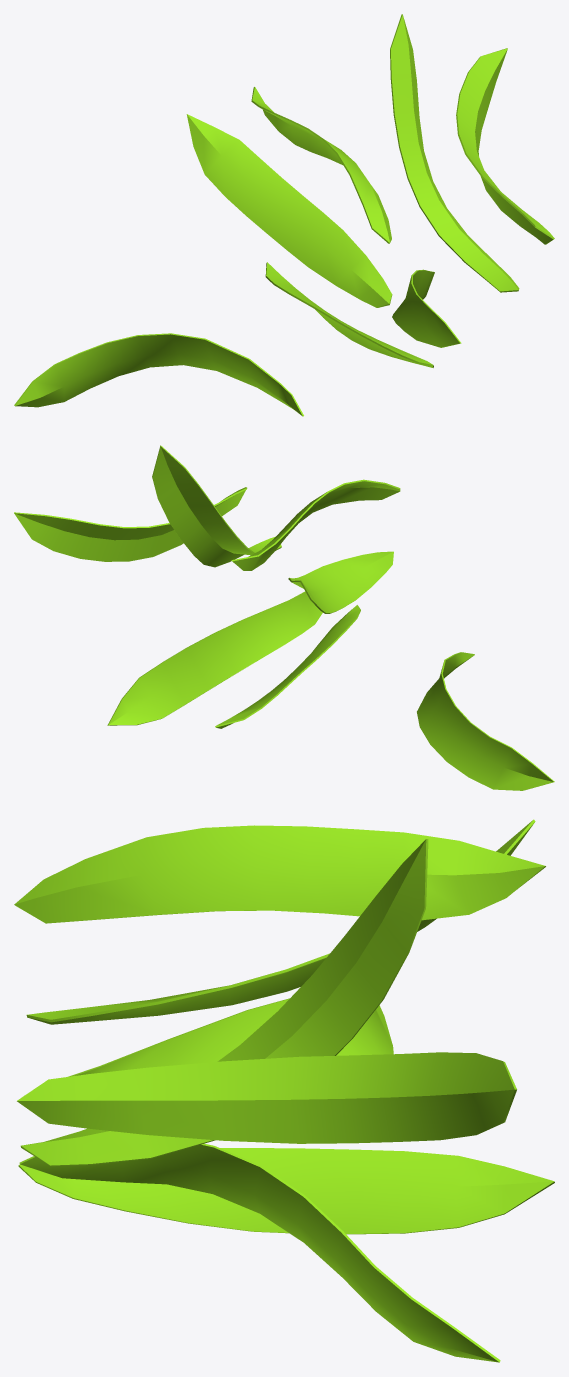
File: grass.fbx
The picture shows the model from 3 angles, top to bottom: view 1: azimuth 30°, elevation 25°; view 2: azimuth 150°, elevation 25°; view 3: azimuth 270°, elevation 25°; orthographic projection. The views are drawn at different scales.
Parts seen in each view (by area): view 1: Plane.002; view 2: Plane.002; view 3: Plane.002.
Boxes of the visible parts, x1,y1,x2,y2 form: Plane.002: (14,14,554,416); Plane.002: (14,445,554,790); Plane.002: (14,819,554,1362).
Bounding box in the file's own units: 0.3814 × 0.2035 × 0.1981.
